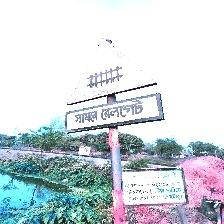Rail-crossing: (65, 43, 164, 134)
